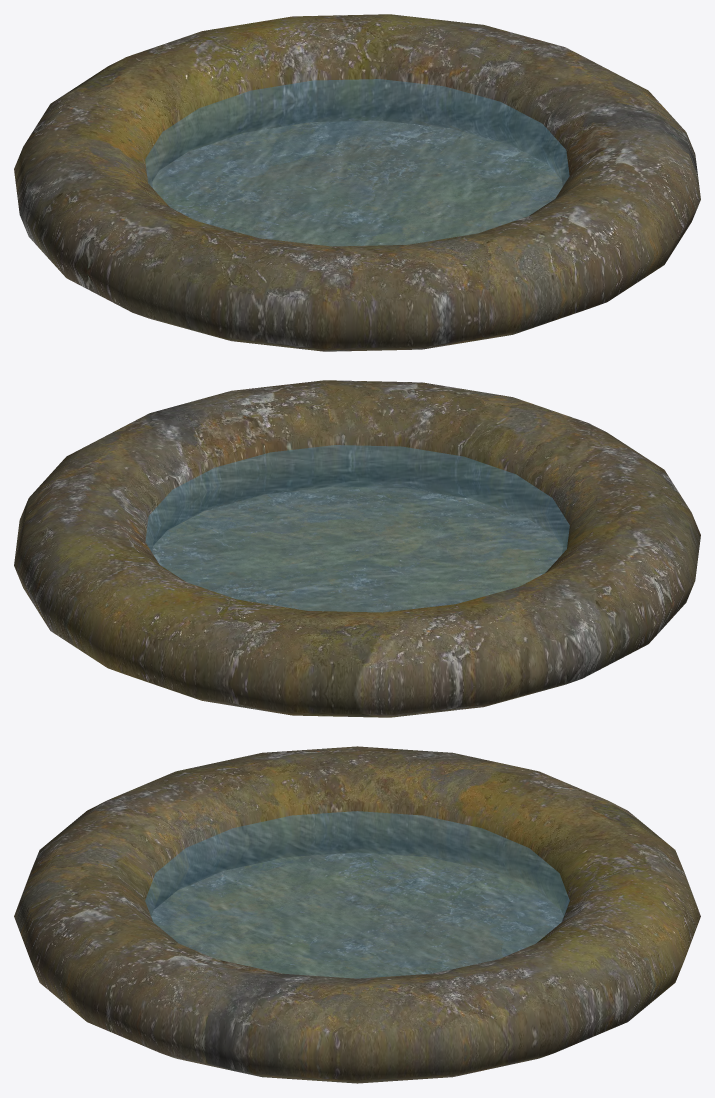
The model's file is waterSource.glb.
3 views of the same model, one above another, from view 1: azimuth 30°, elevation 25°; view 2: azimuth 150°, elevation 25°; view 3: azimuth 270°, elevation 25° (orthographic).
Parts seen in each view (by area): view 1: Torus, Circle, Circle.001; view 2: Torus, Circle, Circle.001; view 3: Torus, Circle, Circle.001.
Boxes of the visible parts, x1=… form: Torus: x1=14, y1=14, x2=700, y2=351; Circle: x1=145, y1=79, x2=569, y2=246; Circle.001: x1=152, y1=120, x2=562, y2=246; Torus: x1=14, y1=380, x2=700, y2=717; Circle: x1=145, y1=445, x2=569, y2=612; Circle.001: x1=152, y1=486, x2=562, y2=612; Torus: x1=14, y1=746, x2=700, y2=1083; Circle: x1=145, y1=811, x2=569, y2=978; Circle.001: x1=151, y1=852, x2=563, y2=978.
Size of the model in its own units: 4.31 by 0.609 by 4.31.
Materials: 2 (2 with a texture image).
